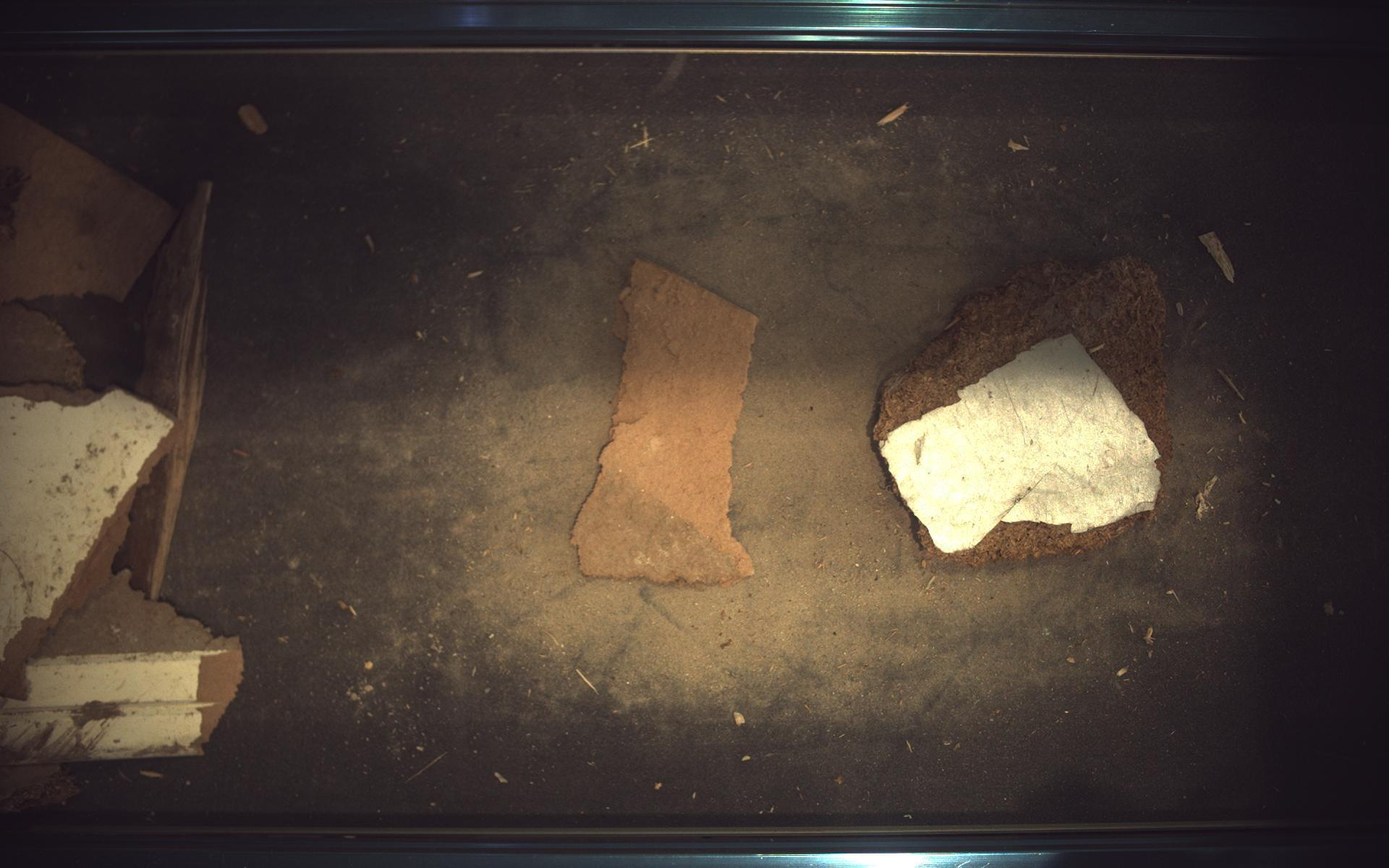wood: (875, 258, 1173, 566), (572, 259, 758, 585), (1, 386, 176, 695), (1, 573, 242, 766), (116, 179, 211, 599), (1, 103, 176, 302), (1, 302, 84, 389)
